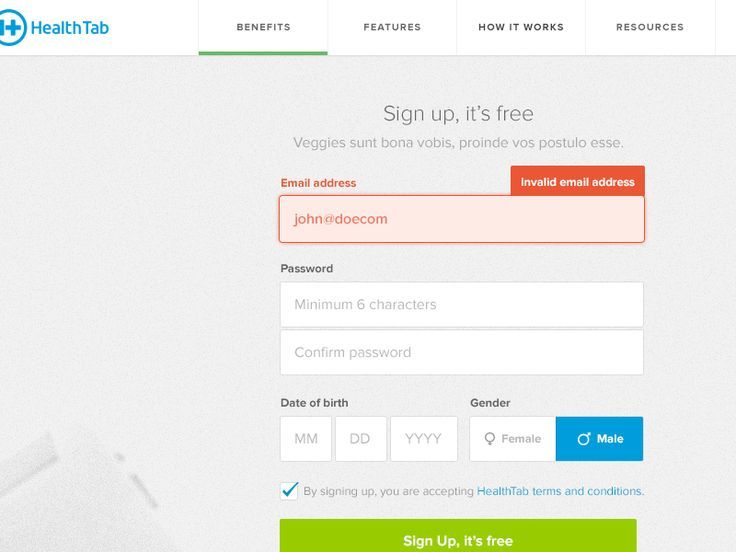error_field: (277, 193, 648, 245)
error_message: (518, 175, 636, 189), (280, 178, 357, 190)
